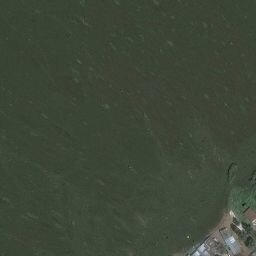tree: (231, 223, 242, 236), (244, 236, 255, 248), (242, 222, 253, 233)
